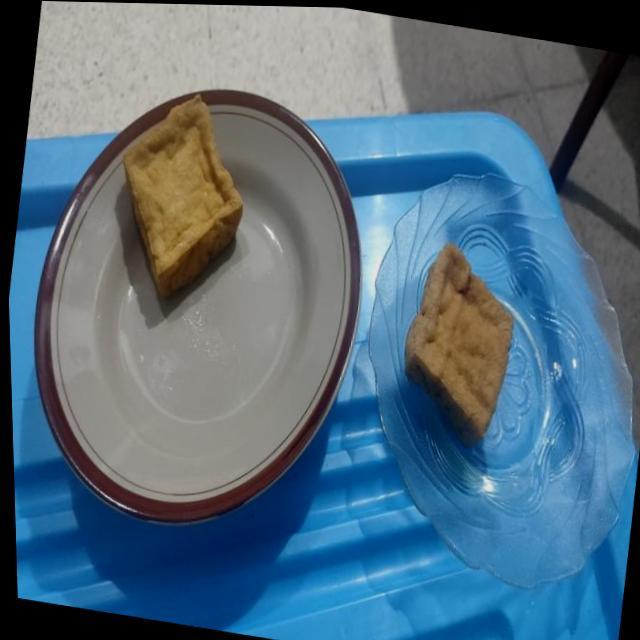tahu_goreng: (124, 95, 242, 296), (404, 243, 514, 446)
